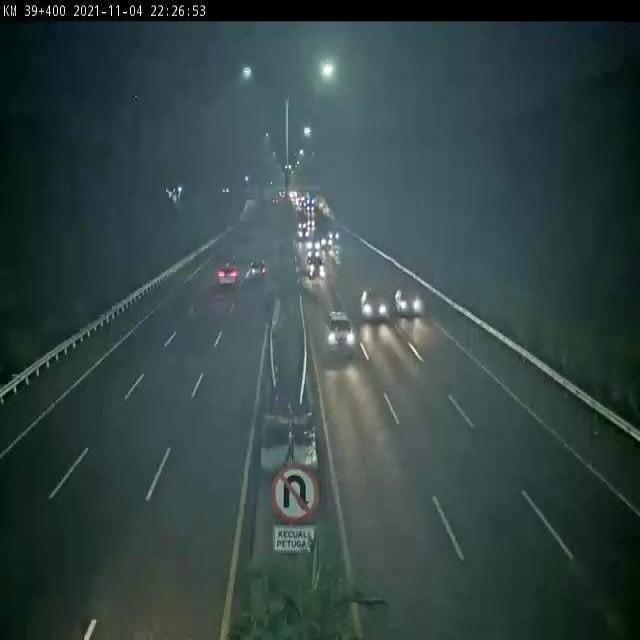car: (325, 308, 356, 355), (392, 284, 422, 320), (361, 284, 386, 324), (215, 262, 239, 286), (305, 255, 325, 280), (248, 255, 267, 280)
